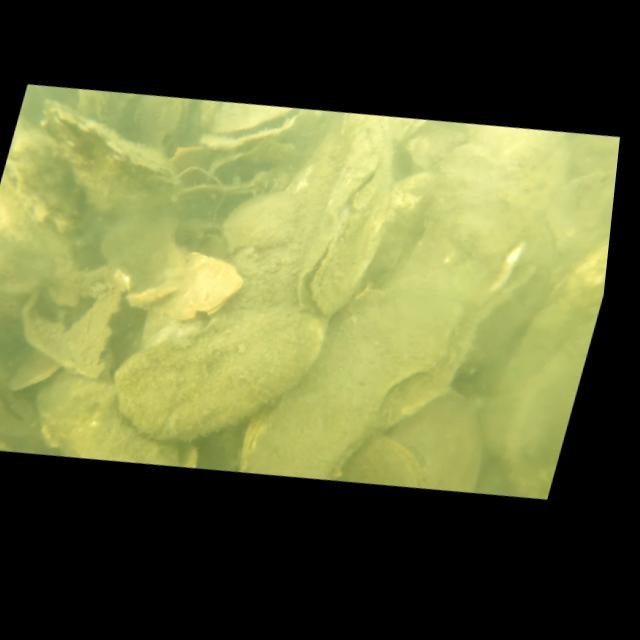Oyster-Closed: (227, 251, 473, 503), (355, 166, 556, 433), (463, 215, 612, 506), (13, 84, 201, 231), (26, 347, 224, 484), (121, 231, 253, 333), (0, 115, 107, 239), (333, 422, 432, 496), (0, 266, 33, 319)
Oyster-Indeterminate: (95, 278, 337, 468), (366, 373, 505, 502), (199, 180, 322, 321), (0, 171, 89, 291)
Oyster-Open: (286, 106, 414, 324), (197, 90, 324, 165), (198, 124, 303, 207)
